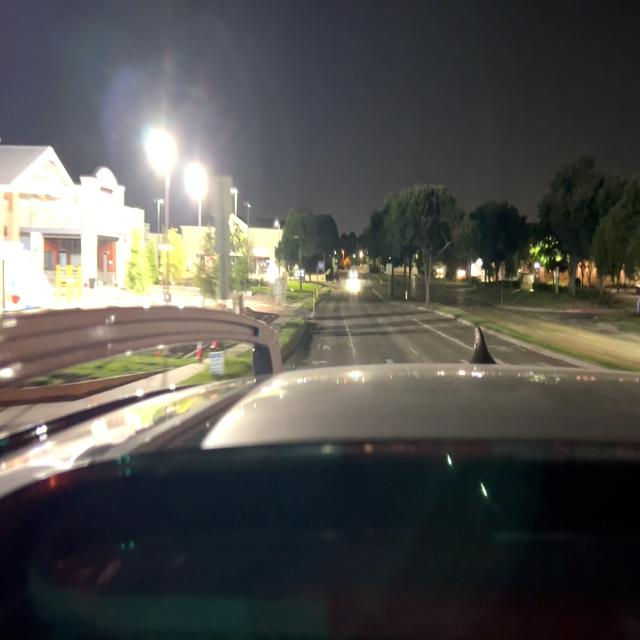back-of-sign: (212, 175, 232, 301)
